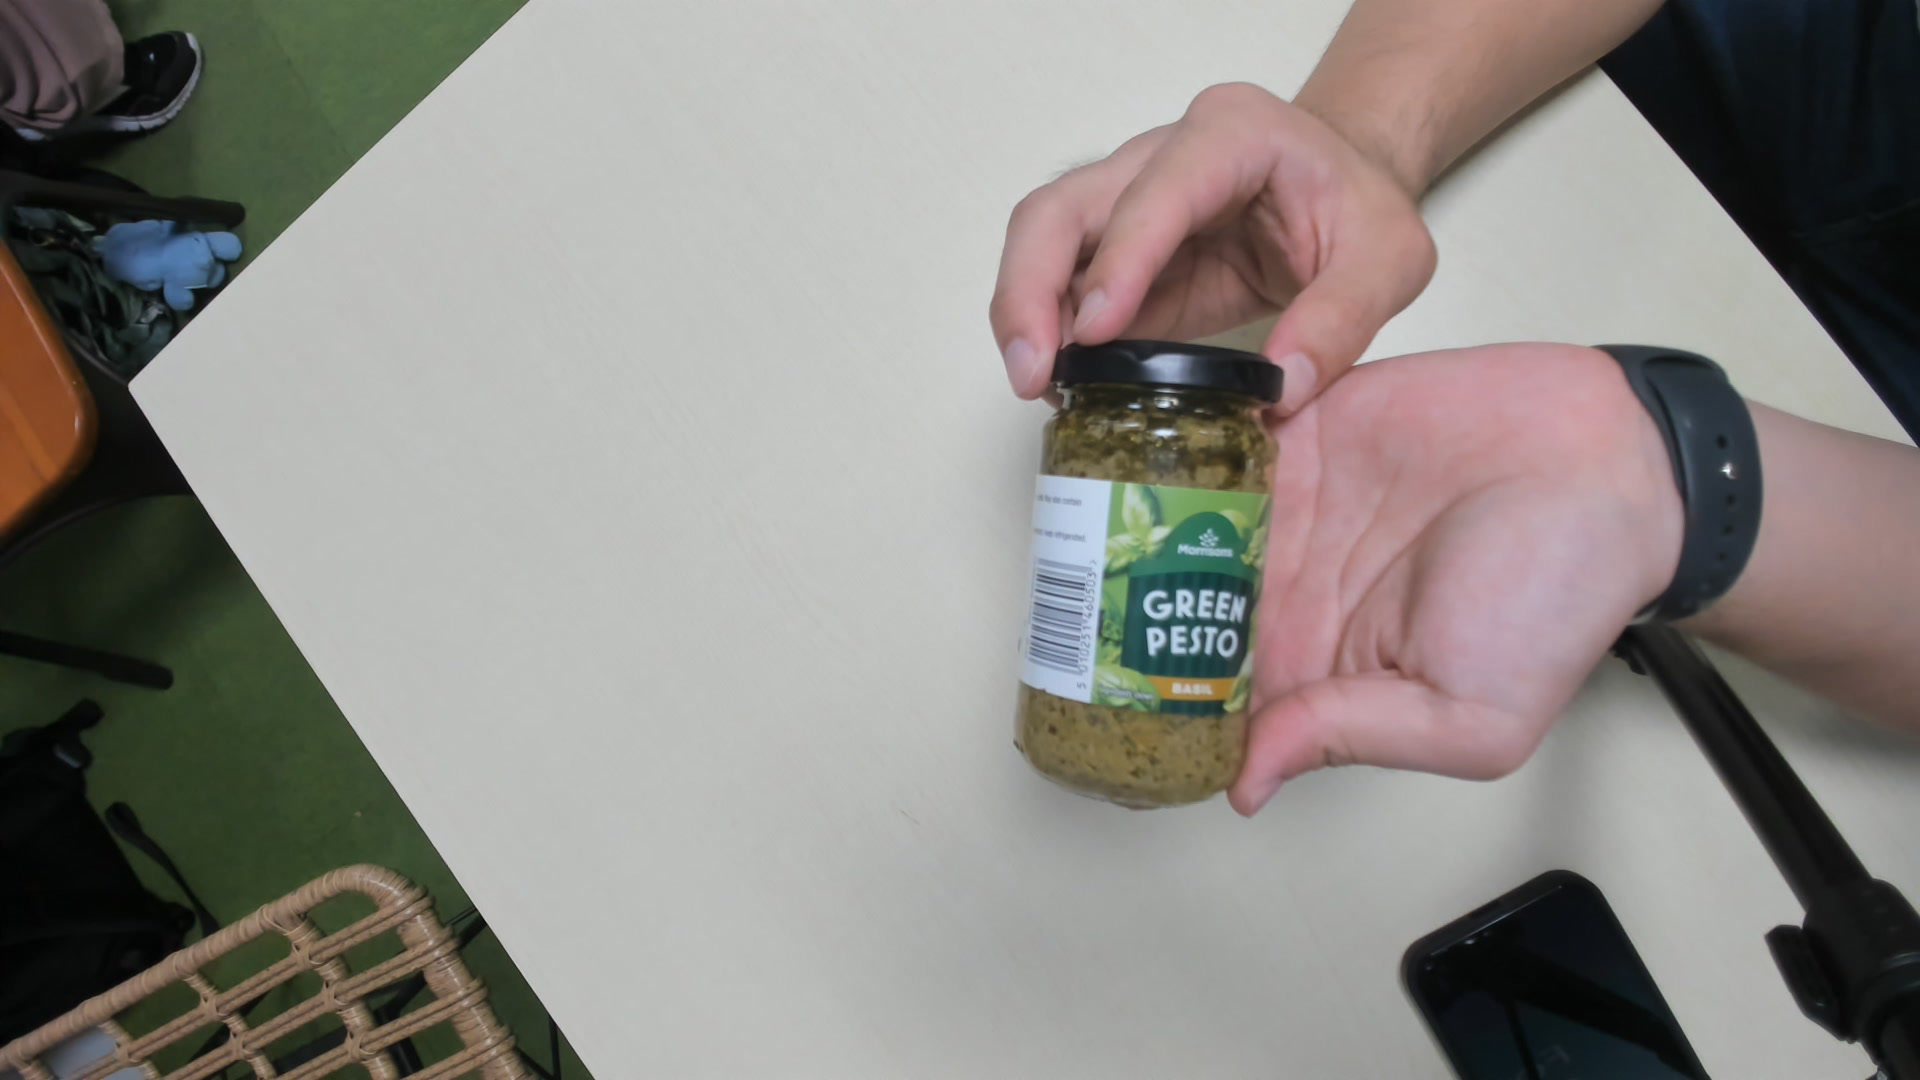OtherSauceDressing_100-199g_NonHalal_NonHealthy: (1017, 339, 1284, 808)
